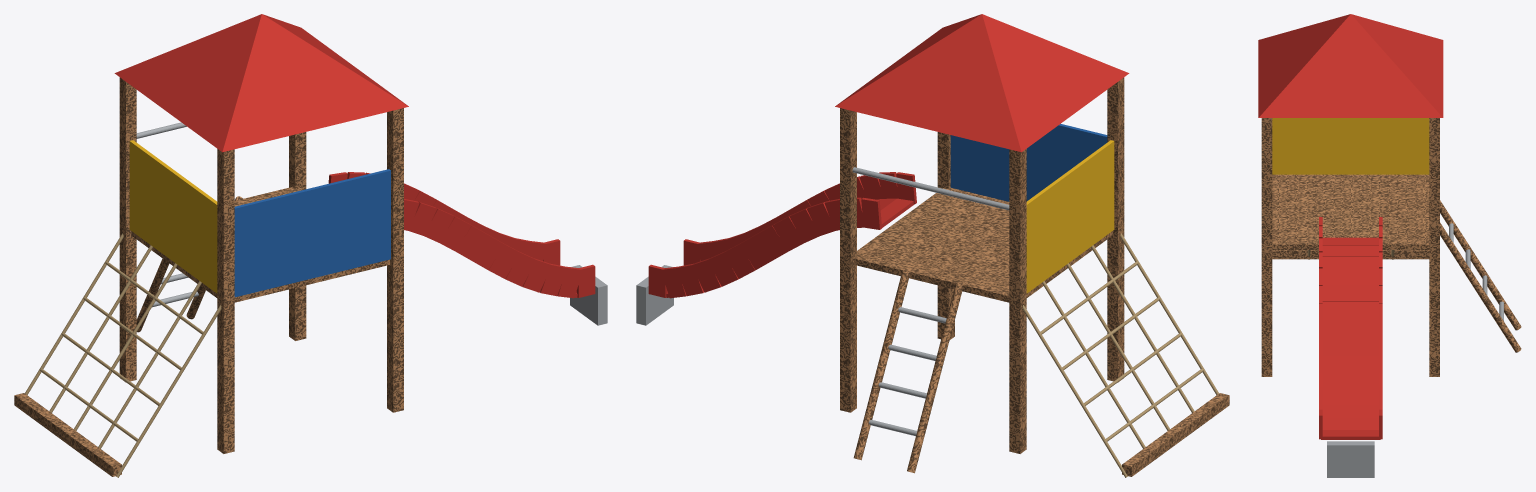
3 views of the same model, side by side, from view 1: azimuth 30°, elevation 25°; view 2: azimuth 150°, elevation 25°; view 3: azimuth 270°, elevation 25° (orthographic). The views are drawn at different scales.
Parts seen in each view (by area): view 1: baseOffset=0;depth=3;height=3;material=timber;power=;service (×6); view 2: baseOffset=0;depth=3;height=3;material=timber;power=;service (×6); view 3: baseOffset=0;depth=3;height=3;material=timber;power=;service (×4).
Part boxes in pixels (x1,y1,x2,y2): baseOffset=0;depth=3;height=3;material=timber;power=;service (×6): (14,14,607,477); baseOffset=0;depth=3;height=3;material=timber;power=;service (×6): (636,14,1229,477); baseOffset=0;depth=3;height=3;material=timber;power=;service (×4): (1258,14,1521,477).
Size of the model in its own units: 4.38 by 2.2 by 3.02.
Materials: 6 (1 with a texture image).
